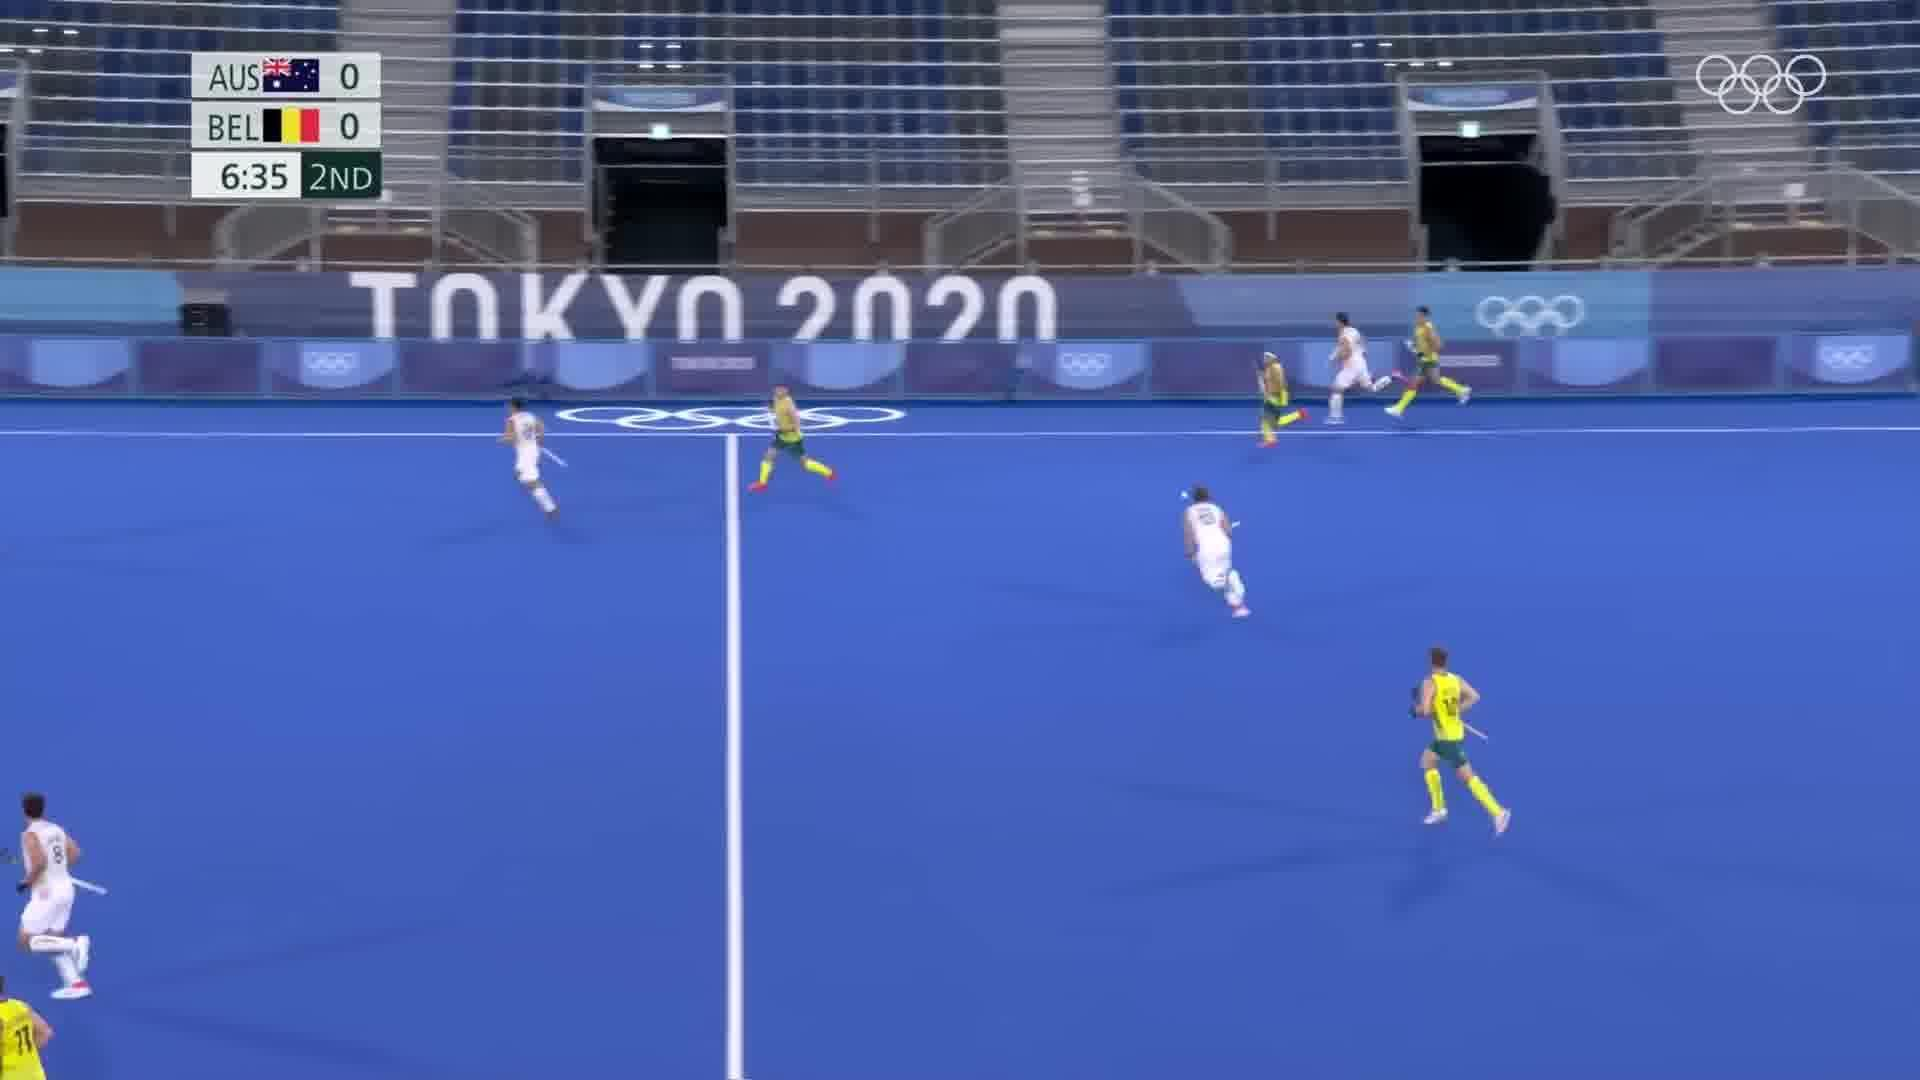ball: (1172, 487, 1190, 504)
